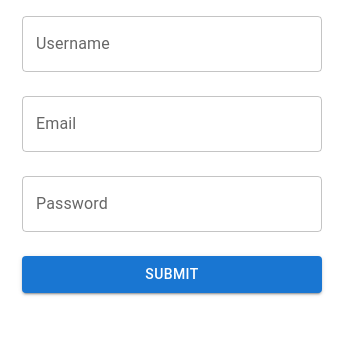
it: Registration Form › displays validation errors for password length
Type "testuser" into the field named "username" at (172, 44), box [22,16,322,72]
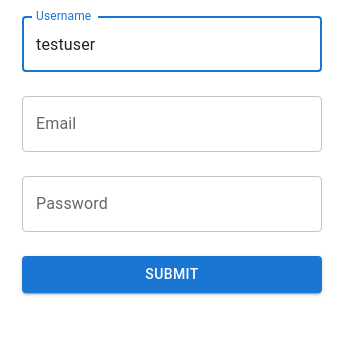
Type "test@example.com" into the field named "email" at (172, 124), box [22,96,322,152]
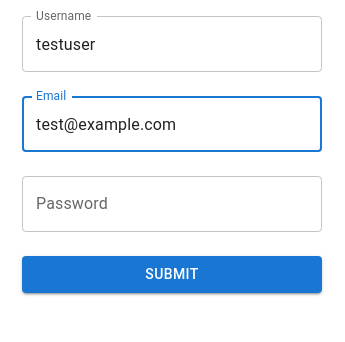
Type "short" into the password field named "password" at (172, 204), box [22,176,322,232]
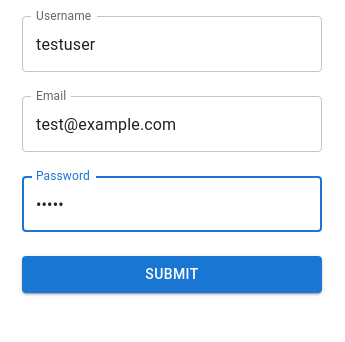
Click the submit button at (172, 275), box [22,256,322,293]
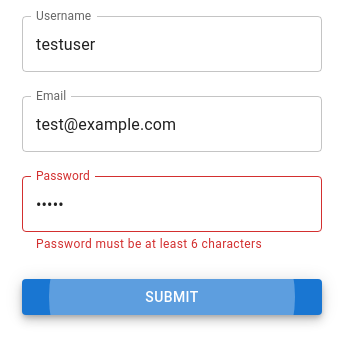
Now the text "Password must be at least 6 characters" is shown, box [36,237,262,251]
